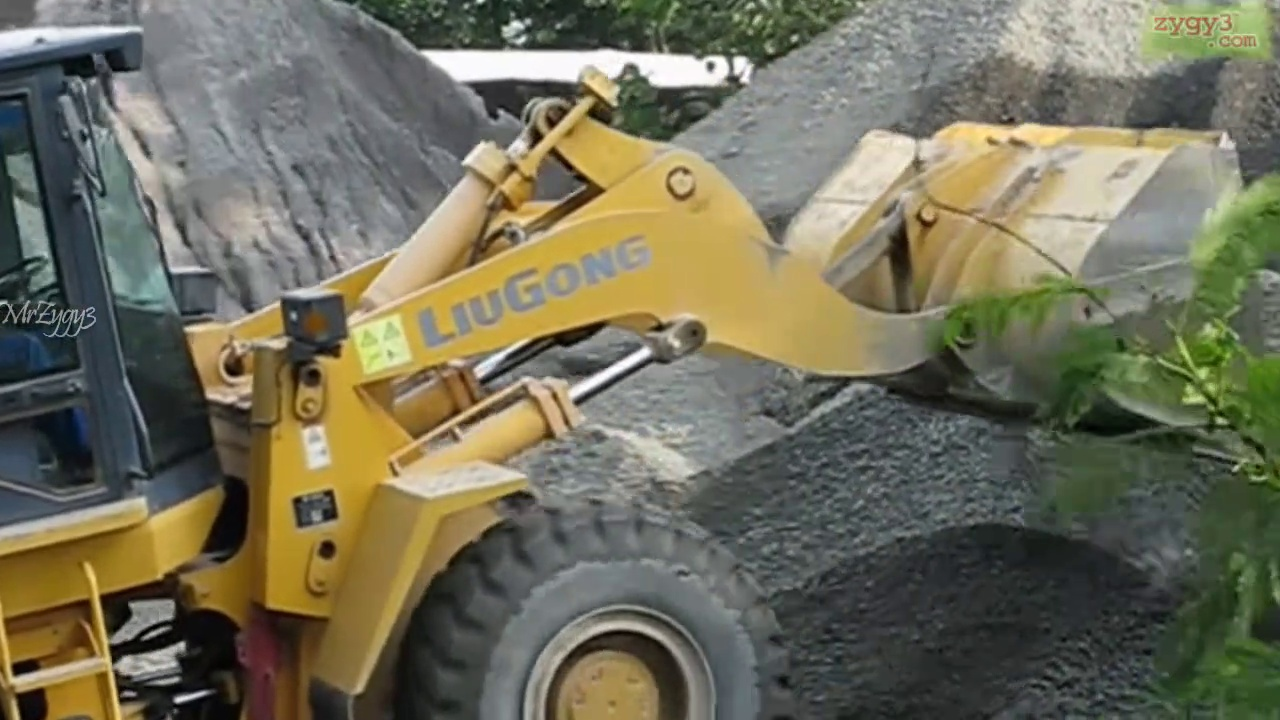wheel loader: (2, 21, 1240, 720)
